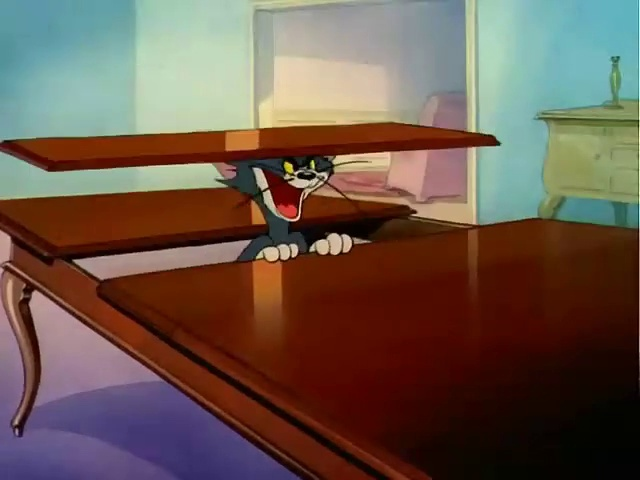tom: (199, 133, 381, 278)
